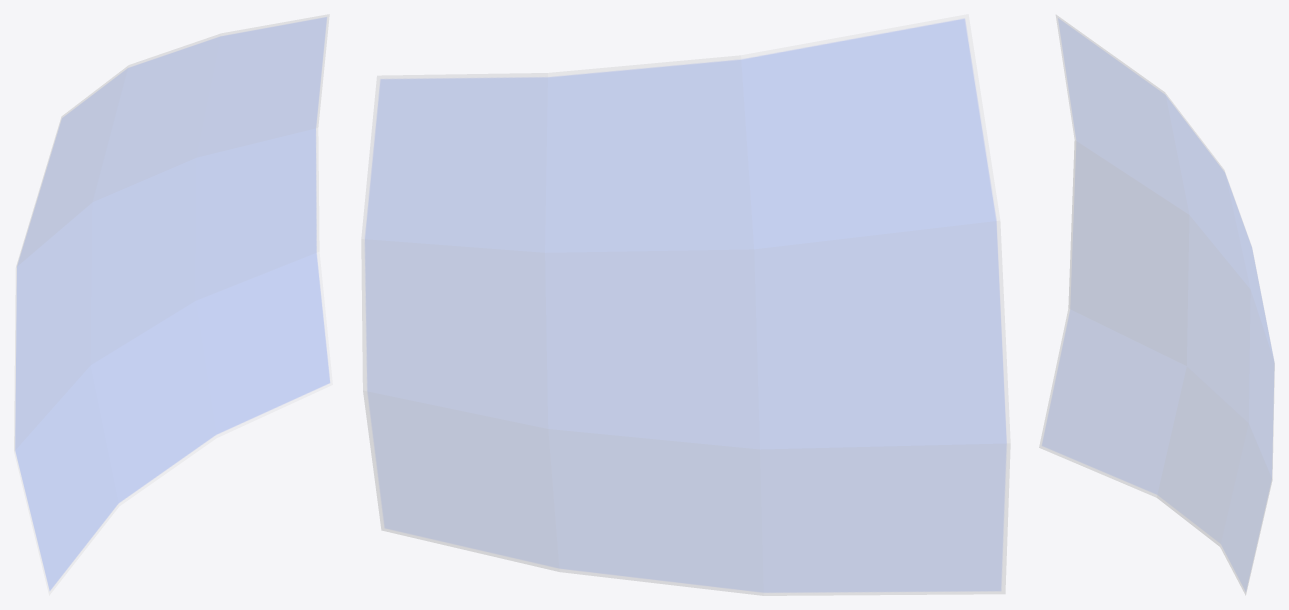
The model's file is pano_02_highLighters.glb.
3 renders of one model, left to right at view 1: azimuth 30°, elevation 25°; view 2: azimuth 150°, elevation 25°; view 3: azimuth 270°, elevation 25°, orthographic. The views are drawn at different scales.
Visible parts, largest first — view 1: Plane_01; view 2: Plane_01; view 3: Plane_01.
Boxes of the visible parts, <box> form: Plane_01: <box>14,14,332,595</box>; Plane_01: <box>361,14,1010,595</box>; Plane_01: <box>1039,15,1274,594</box>.
Bounding box in the file's own units: 330 × 357 × 172.
Materials: 1 (1 with a texture image).
